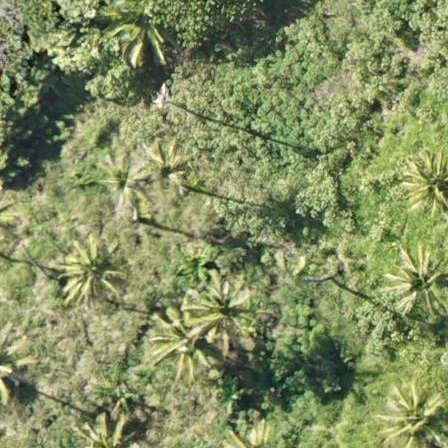palm_tree: (382, 241, 448, 316), (375, 377, 443, 448), (94, 149, 159, 219), (61, 241, 125, 307), (189, 282, 251, 347), (105, 5, 173, 62), (396, 142, 448, 216), (140, 146, 191, 196)
